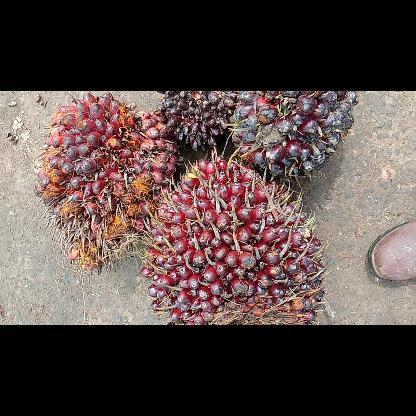Kurang masak: (140, 154, 328, 324), (229, 91, 359, 179)
TBS abnormal: (156, 91, 238, 153)
TBS masak: (33, 91, 179, 273)
